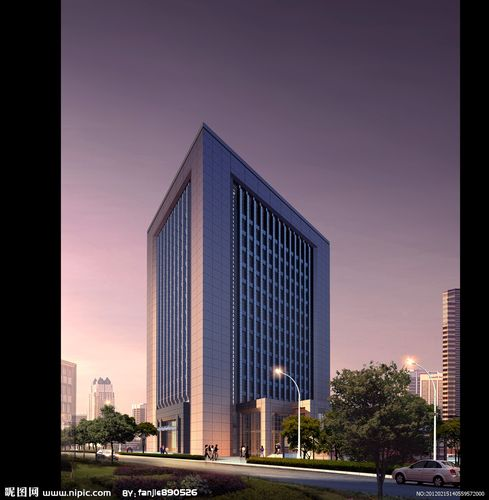buildings: (131, 143, 344, 461), (417, 280, 470, 444)
